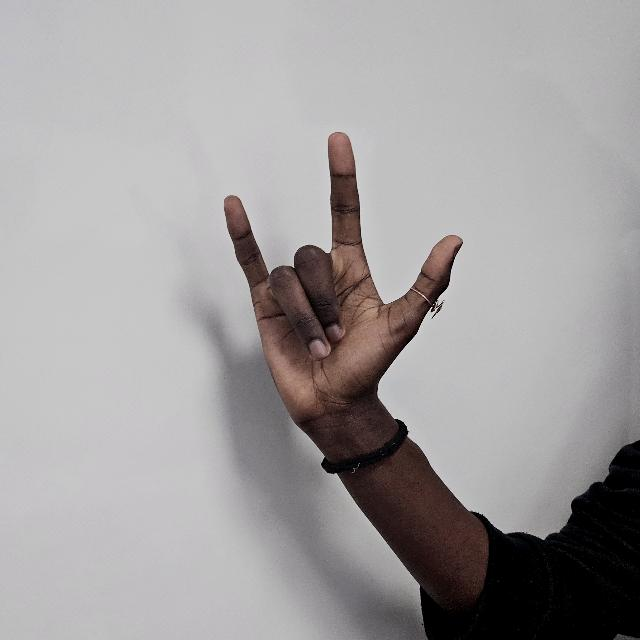Cima: (220, 131, 464, 435)
